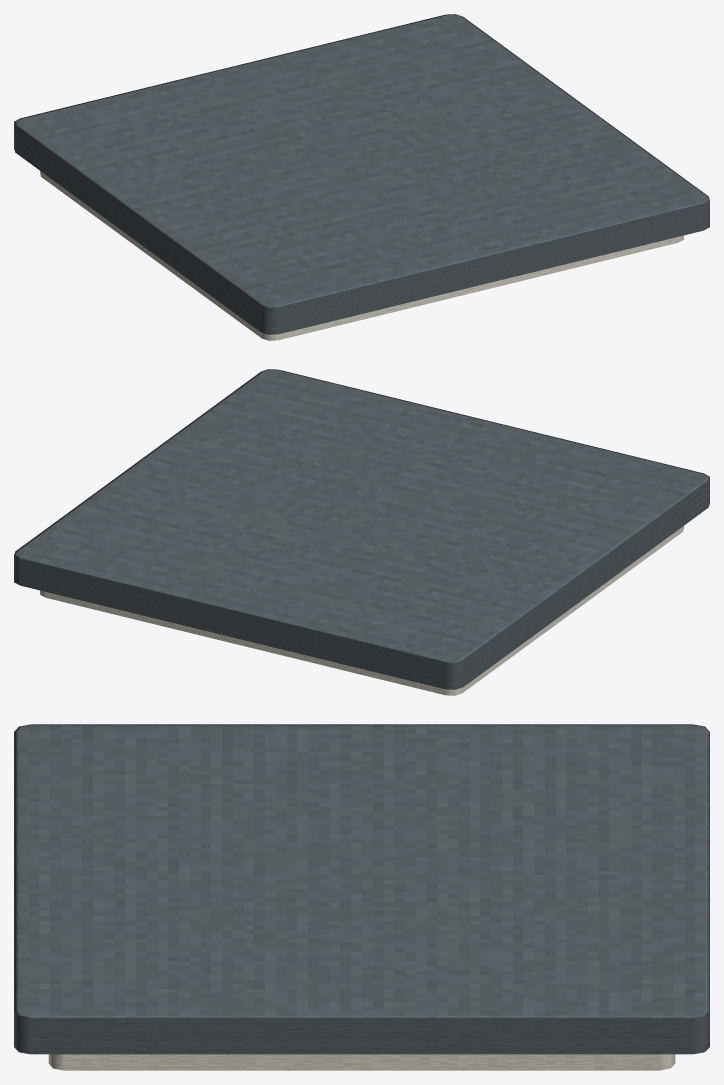
The model's file is troffer.glb.
The picture shows the model from 3 angles, top to bottom: view 1: azimuth 30°, elevation 25°; view 2: azimuth 150°, elevation 25°; view 3: azimuth 270°, elevation 25°; orthographic projection. The views are drawn at different scales.
Visible parts, largest first — view 1: housing, diffuser; view 2: housing, diffuser; view 3: housing, diffuser.
Part boxes in pixels (x1,y1,x2,y2): housing: [14, 14, 709, 334]; diffuser: [40, 171, 683, 340]; housing: [14, 369, 709, 689]; diffuser: [40, 526, 683, 695]; housing: [14, 724, 709, 1054]; diffuser: [48, 1054, 675, 1070].
Size of the model in its own units: 0.6 by 0.0597 by 0.6.
2 materials, 2 textured.
